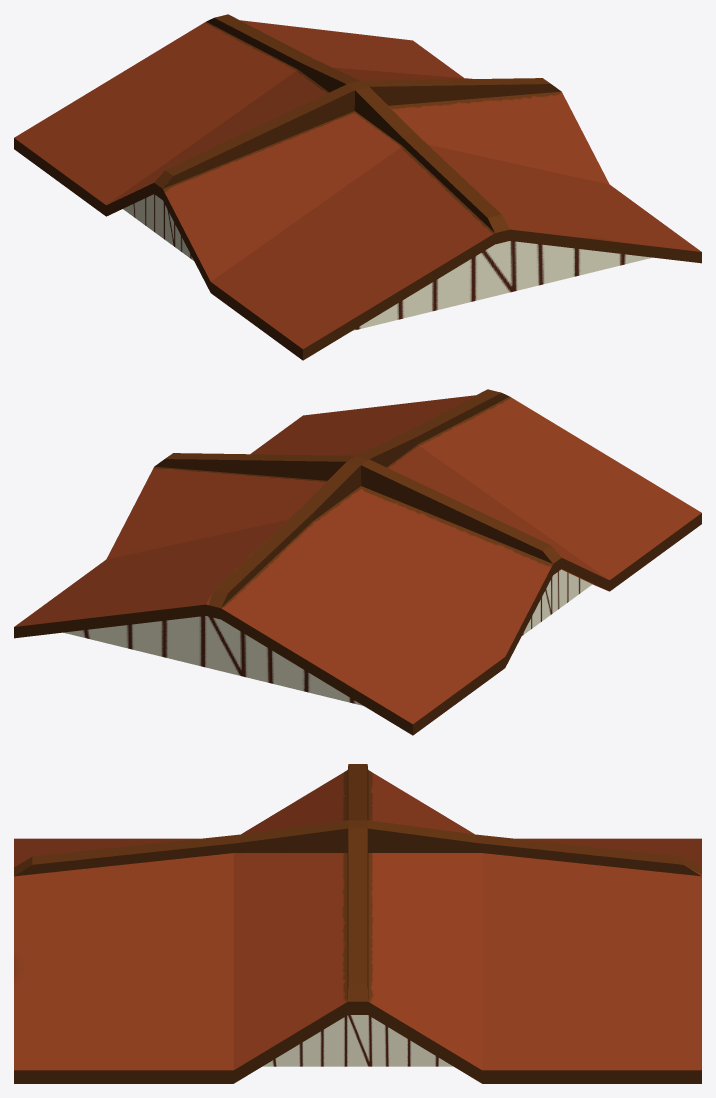
The model's file is EmporiumRoof.fbx.
3 views of the same model, one above another, from view 1: azimuth 30°, elevation 25°; view 2: azimuth 150°, elevation 25°; view 3: azimuth 270°, elevation 25° (orthographic). The views are drawn at different scales.
Visible parts, largest first — view 1: Roof, RoofSideToSide, RoofFrontToBack; view 2: Roof, RoofSideToSide, RoofFrontToBack; view 3: Roof, RoofFrontToBack.
Boxes of the visible parts, box(x1,y1,x2,y2) form: Roof: box(14, 14, 701, 360); RoofSideToSide: box(352, 241, 651, 330); RoofFrontToBack: box(123, 194, 193, 260); Roof: box(14, 389, 701, 735); RoofSideToSide: box(64, 616, 363, 705); RoofFrontToBack: box(522, 569, 592, 635); Roof: box(14, 764, 701, 1083); RoofFrontToBack: box(263, 1015, 452, 1066).
Bounding box in the file's own units: 2192 × 634 × 2750.
